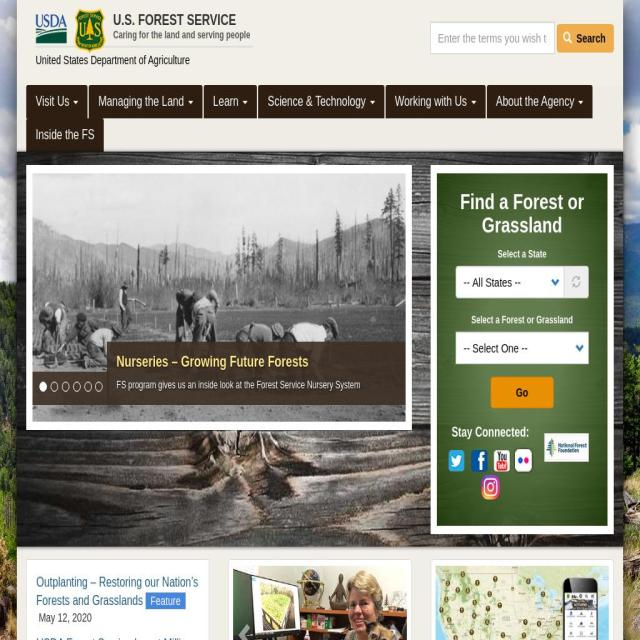button: (32, 174, 406, 422), (435, 566, 609, 640), (233, 566, 407, 640), (74, 8, 250, 54), (229, 458, 257, 640), (383, 458, 411, 640), (258, 85, 384, 118), (89, 85, 202, 118), (486, 85, 593, 118), (385, 85, 486, 118), (26, 118, 104, 152), (26, 85, 88, 118), (490, 377, 554, 408), (203, 85, 258, 118), (557, 23, 614, 52), (544, 433, 588, 462), (145, 593, 186, 609), (36, 18, 66, 32)
field: (455, 332, 589, 364), (429, 22, 555, 54), (455, 266, 564, 298)
heading: (33, 174, 418, 438), (32, 173, 406, 422), (228, 559, 412, 640), (233, 566, 407, 640), (455, 190, 589, 237), (116, 353, 309, 371), (446, 425, 535, 439)
image: (32, 174, 406, 422), (435, 566, 609, 640), (233, 566, 407, 640), (84, 8, 296, 54), (544, 433, 588, 462), (36, 14, 66, 44), (480, 474, 501, 501), (446, 448, 467, 474), (491, 448, 512, 474), (469, 448, 489, 474), (514, 448, 534, 474), (571, 270, 581, 292)
label: (471, 314, 573, 328), (497, 248, 547, 262)
link: (36, 574, 198, 608), (113, 29, 250, 41), (36, 636, 198, 640)
text: (116, 378, 396, 394), (36, 52, 252, 68), (113, 12, 236, 28), (268, 94, 370, 108), (98, 94, 187, 108), (38, 380, 104, 398), (496, 94, 578, 108), (394, 94, 470, 108), (38, 611, 92, 624), (36, 94, 72, 108), (574, 31, 606, 45), (212, 94, 242, 108)
